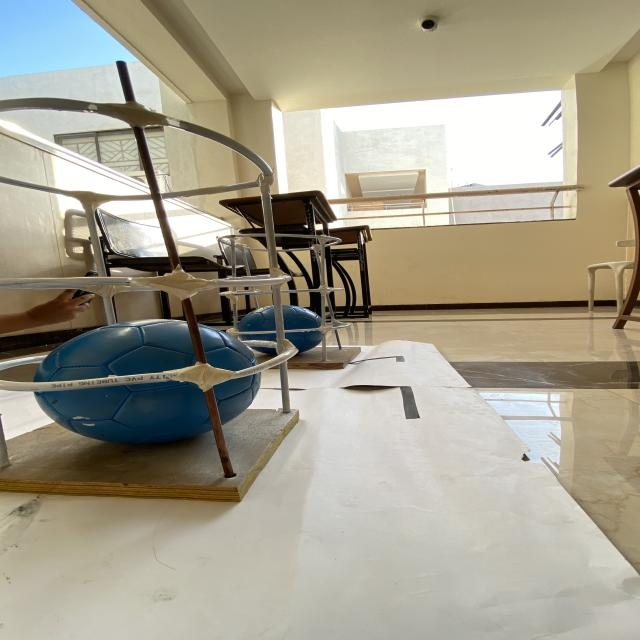blue_ball: (42, 319, 256, 440), (244, 301, 318, 354)
silo: (0, 60, 304, 502), (222, 227, 368, 372)
